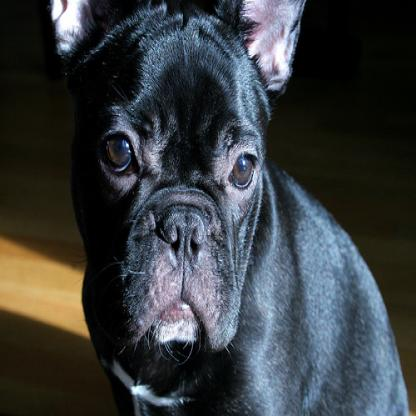French_bulldog: (47, 0, 410, 414)
